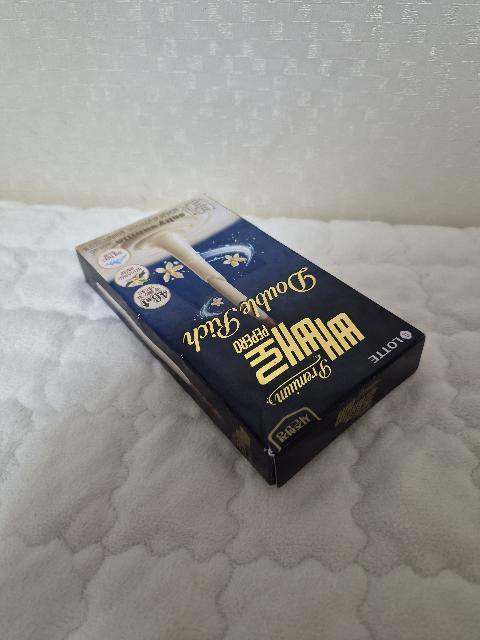pepero: (75, 193, 425, 488)
